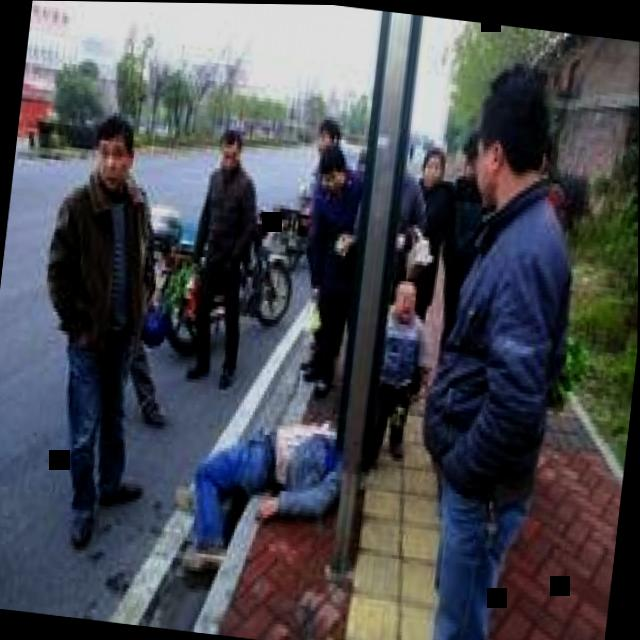Fall-Detected: (156, 368, 364, 584)
